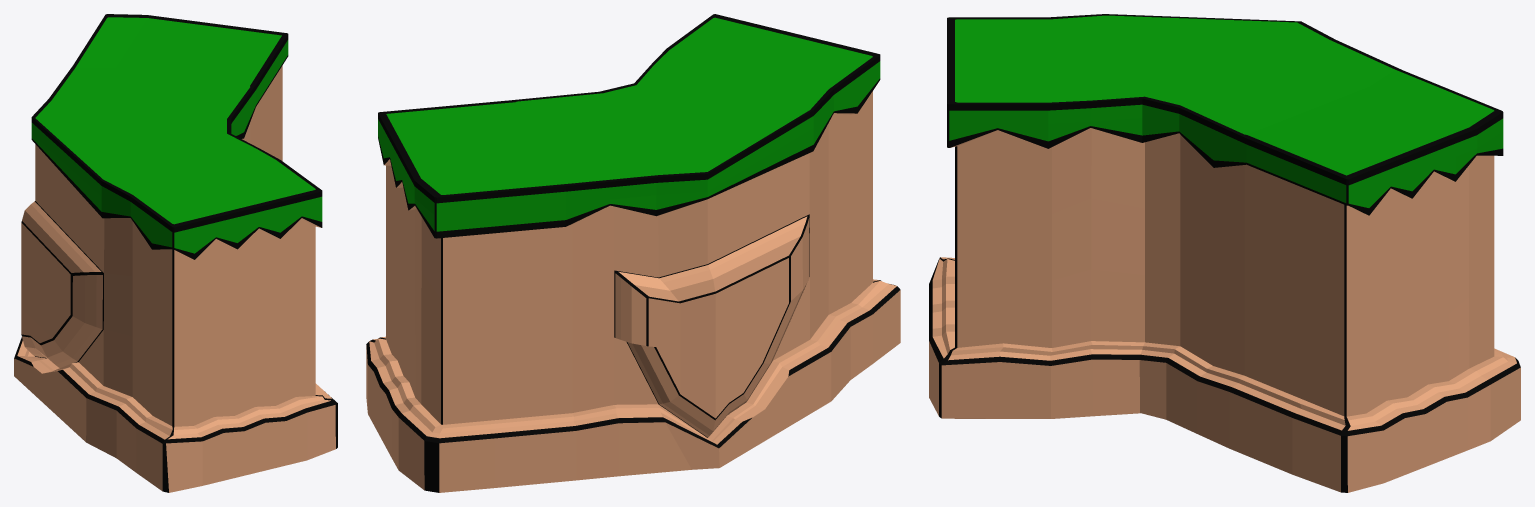
File: CardboardPlatform24.fbx
3 renders of one model, left to right at view 1: azimuth 30°, elevation 25°; view 2: azimuth 150°, elevation 25°; view 3: azimuth 270°, elevation 25°, orthographic. The views are drawn at different scales.
Visible parts, largest first — view 1: Cube.043; view 2: Cube.043; view 3: Cube.043.
Part boxes in pixels (x1=…): Cube.043: x1=14, y1=14, x2=337, y2=492; Cube.043: x1=366, y1=14, x2=900, y2=492; Cube.043: x1=929, y1=14, x2=1520, y2=492.
Size of the model in its own units: 2128 by 1708 by 2907.
